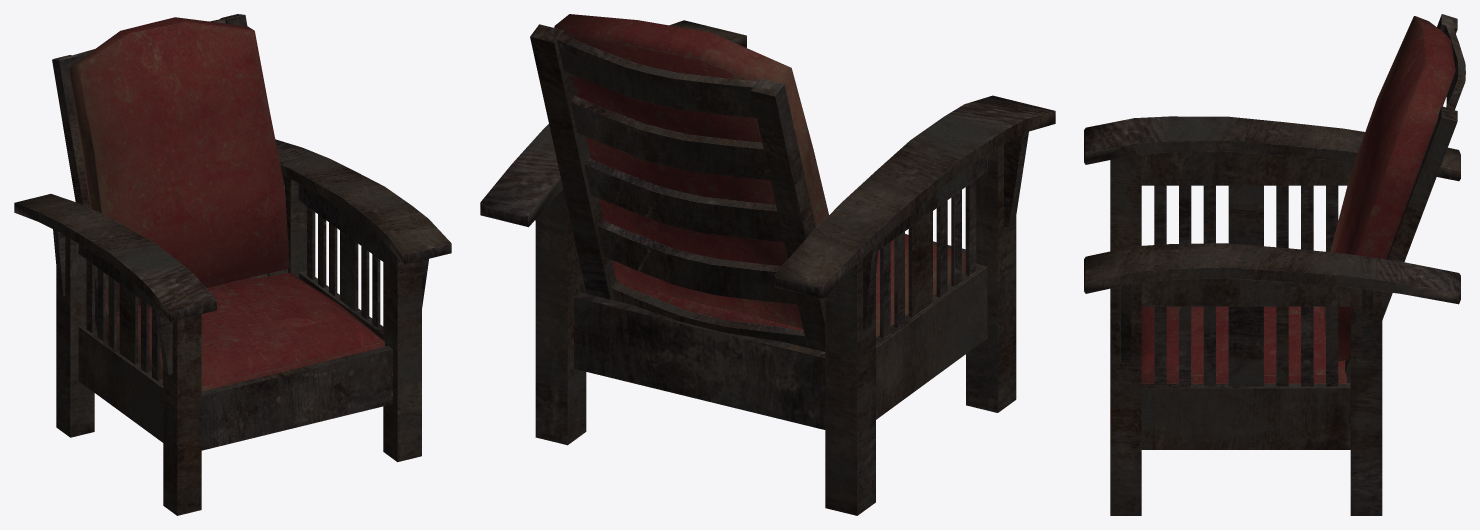
3 renders of one model, left to right at view 1: azimuth 30°, elevation 25°; view 2: azimuth 150°, elevation 25°; view 3: azimuth 270°, elevation 25°, orthographic. The views are drawn at different scales.
Visible parts, largest first — view 1: Cube.003; view 2: Cube.003; view 3: Cube.003.
Boxes of the visible parts, x1=… form: Cube.003: x1=14, y1=14, x2=451, y2=515; Cube.003: x1=480, y1=14, x2=1055, y2=515; Cube.003: x1=1084, y1=14, x2=1465, y2=515.
Bounding box in the file's own units: 16.09 × 19.5 × 16.72.
Materials: 1 (1 with a texture image).
